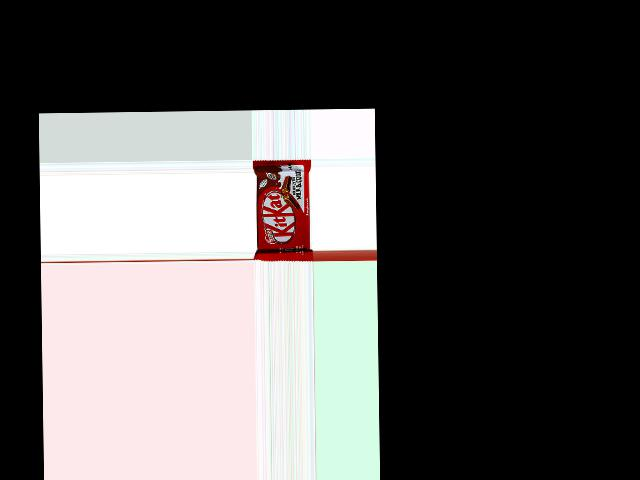chocolate: (252, 158, 313, 261)
